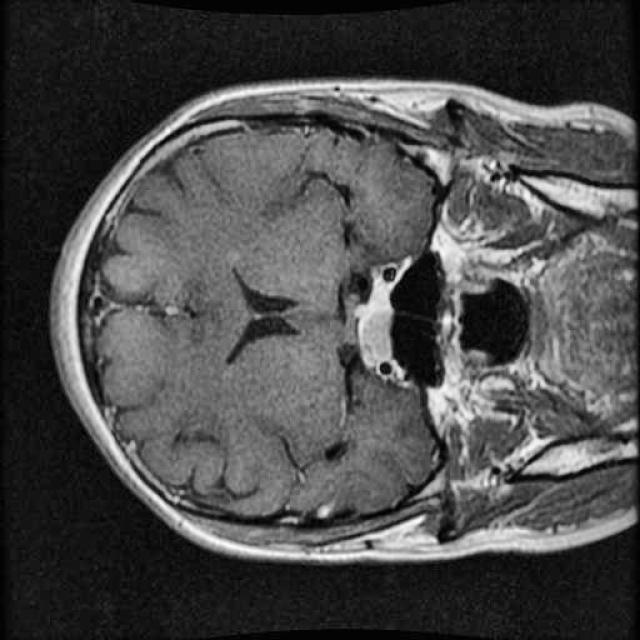Tumor: (332, 288, 414, 374)
